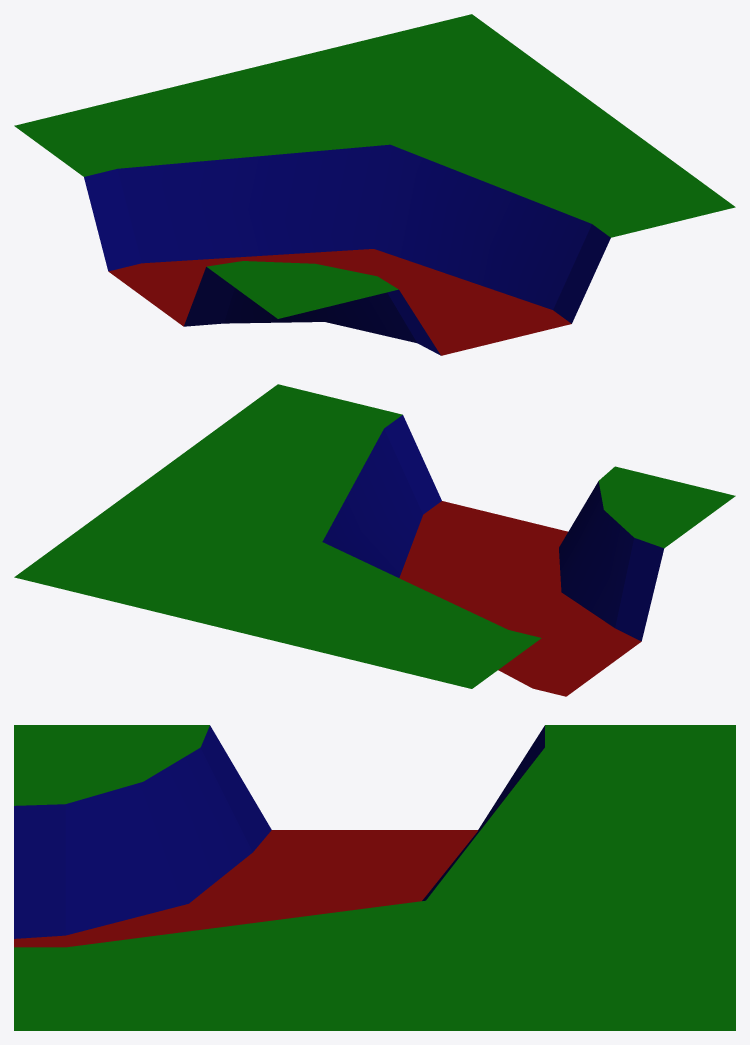
The model's file is TurnRoad_v2.fbx.
The picture shows the model from 3 angles, top to bottom: view 1: azimuth 30°, elevation 25°; view 2: azimuth 150°, elevation 25°; view 3: azimuth 270°, elevation 25°; orthographic projection. The views are drawn at different scales.
Visible parts, largest first — view 1: TurnRoad; view 2: TurnRoad; view 3: TurnRoad.
Boxes of the visible parts, box(x1,y1,x2,y2) form: TurnRoad: box(14, 14, 735, 355); TurnRoad: box(14, 384, 735, 696); TurnRoad: box(14, 725, 735, 1030).
Bounding box in the file's own units: 7.01 × 1.12 × 7.
